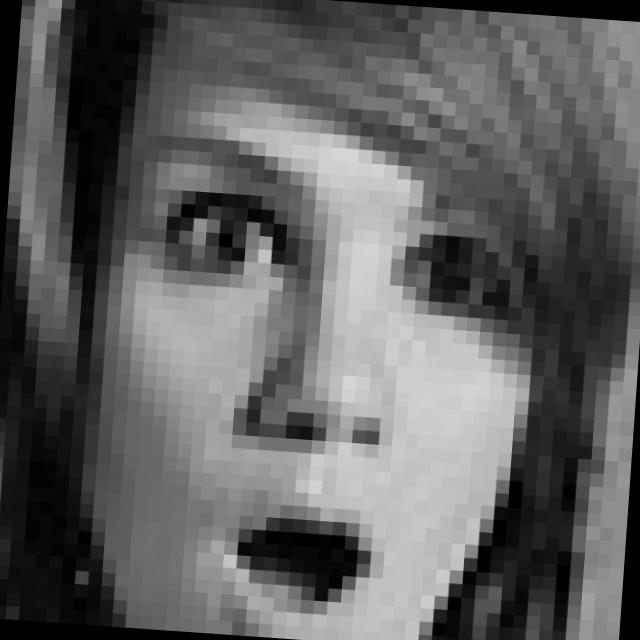surprise: (112, 121, 543, 640)
